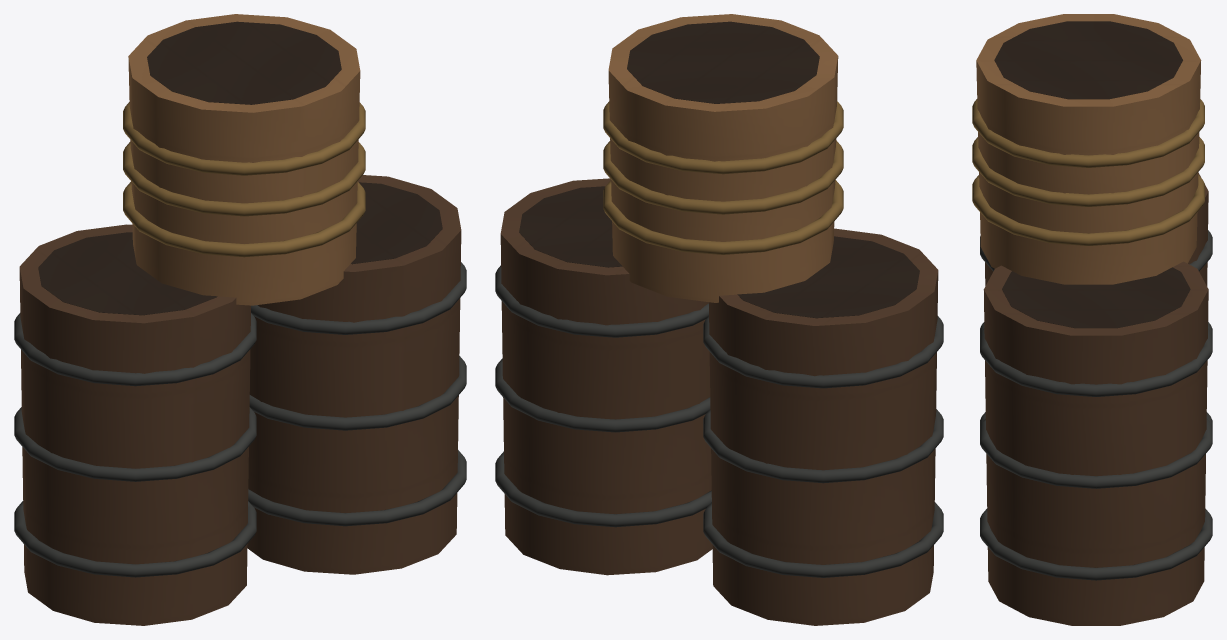
The model's file is sk-household-barrel-stack.glb.
3 views of the same model, side by side, from view 1: azimuth 30°, elevation 25°; view 2: azimuth 150°, elevation 25°; view 3: azimuth 270°, elevation 25° (orthographic). The views are drawn at different scales.
Parts seen in each view (by area): view 1: household:barrel_stack-static-wood (×2), barrel-stack-top-body, household:barrel_stack-static-metal (×2); view 2: household:barrel_stack-static-wood (×2), barrel-stack-top-body, household:barrel_stack-static-metal (×2); view 3: household:barrel_stack-static-wood (×2), barrel-stack-top-body, household:barrel_stack-static-metal (×2).
Part boxes in pixels (left/top/right/bottom): household:barrel_stack-static-wood (×2): left=19, top=21, right=461, bottom=625; barrel-stack-top-body: left=128, top=14, right=360, bottom=305; household:barrel_stack-static-metal (×2): left=14, top=102, right=466, bottom=577; household:barrel_stack-static-wood (×2): left=500, top=21, right=938, bottom=625; barrel-stack-top-body: left=608, top=14, right=838, bottom=302; household:barrel_stack-static-metal (×2): left=495, top=101, right=943, bottom=577; household:barrel_stack-static-wood (×2): left=983, top=21, right=1208, bottom=625; barrel-stack-top-body: left=976, top=14, right=1201, bottom=284; household:barrel_stack-static-metal (×2): left=972, top=99, right=1212, bottom=580.
Bounding box in the file's own units: 1.25 × 1.39 × 0.6404.
5 materials, 5 textured.
